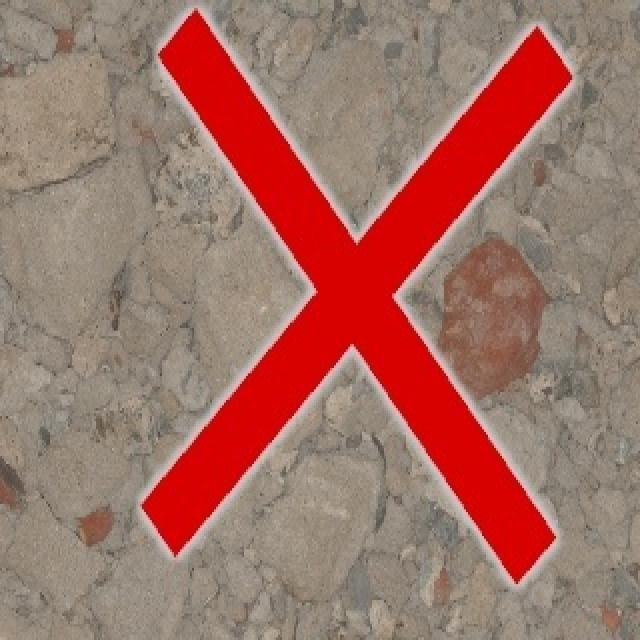x_marker: (141, 9, 571, 583)
